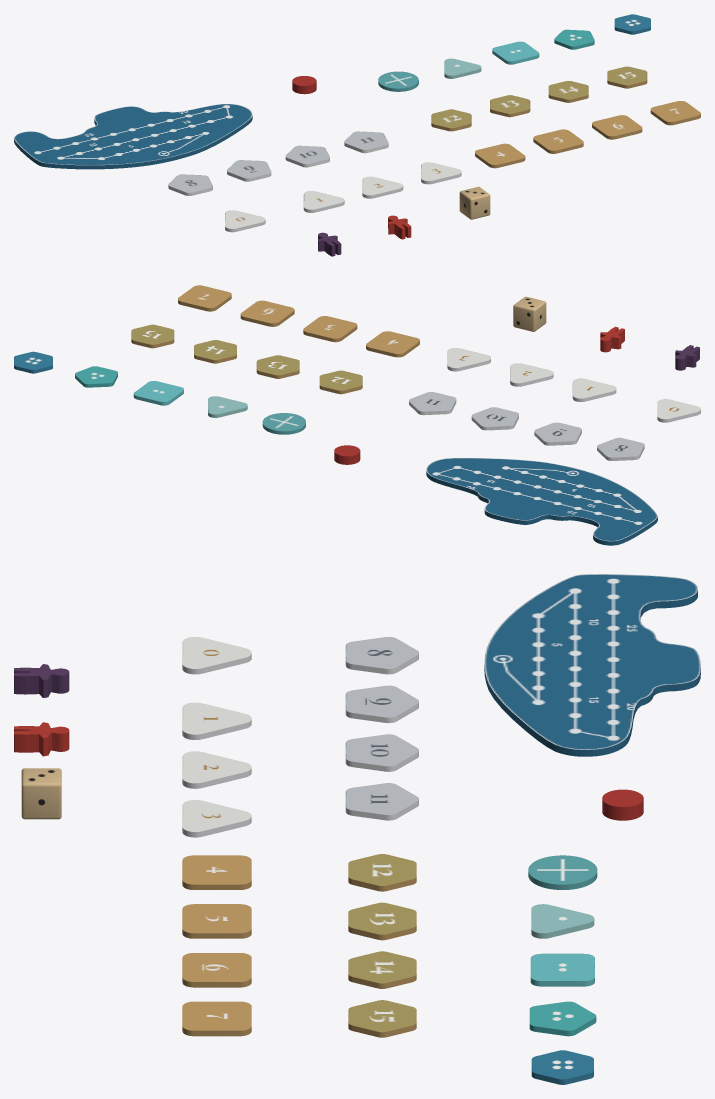
Rendered from deep-sea-adventure.glb.
The picture shows the model from 3 angles, top to bottom: view 1: azimuth 30°, elevation 25°; view 2: azimuth 150°, elevation 25°; view 3: azimuth 270°, elevation 25°; orthographic projection. The views are drawn at different scales.
Visible parts, largest first — view 1: submarine_board, die, sq_4, sq_6, sq_5, sq_7, back_square, pen_9, pen_8, pen_10, pen_11, hex_12 (+14 smaller); view 2: submarine_board, sq_5, sq_6, die, sq_7, sq_4, pen_9, pen_10, back_square, pen_8, pen_11, hex_12 (+14 smaller); view 3: submarine_board, sq_7, sq_5, sq_4, sq_6, pen_9, pen_10, pen_8, pen_11, back_square, hex_13, hex_12 (+14 smaller).
Boxes of the visible parts, x1,y1,x2,y2 form: submarine_board: (14, 104, 252, 169); die: (459, 186, 490, 219); sq_4: (475, 143, 525, 168); sq_6: (592, 115, 642, 139); sq_5: (533, 129, 583, 153); sq_7: (650, 101, 700, 125); back_square: (492, 41, 539, 64); pen_9: (227, 160, 271, 181); pen_8: (168, 174, 212, 195); pen_10: (285, 145, 329, 167); pen_11: (344, 131, 388, 153); hex_12: (431, 109, 471, 131); submarine_board: (426, 458, 657, 545); sq_5: (303, 316, 357, 342); sq_6: (240, 300, 294, 326); die: (513, 296, 546, 331); sq_7: (178, 285, 231, 311); sq_4: (366, 331, 419, 357); pen_9: (534, 422, 581, 445); pen_10: (471, 407, 518, 430); back_square: (133, 381, 183, 405); pen_8: (597, 437, 644, 460); pen_11: (409, 392, 456, 415); hex_12: (319, 370, 362, 394); submarine_board: (484, 574, 700, 756); sq_7: (182, 1001, 251, 1036); sq_5: (182, 904, 251, 938); sq_4: (182, 855, 251, 889); sq_6: (182, 953, 251, 987); pen_9: (345, 685, 418, 723); pen_10: (345, 734, 418, 771); pen_8: (345, 637, 418, 674); pen_11: (345, 783, 418, 820); back_square: (530, 953, 594, 986); hex_13: (348, 902, 416, 940); hex_12: (348, 854, 416, 891).
Size of the model in its own units: 0.476 by 0.016 by 0.2742.
Materials: 68 (42 with a texture image).
